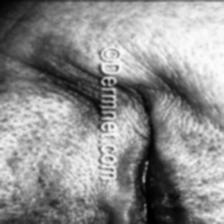Toxin: (60, 67, 88, 109)
